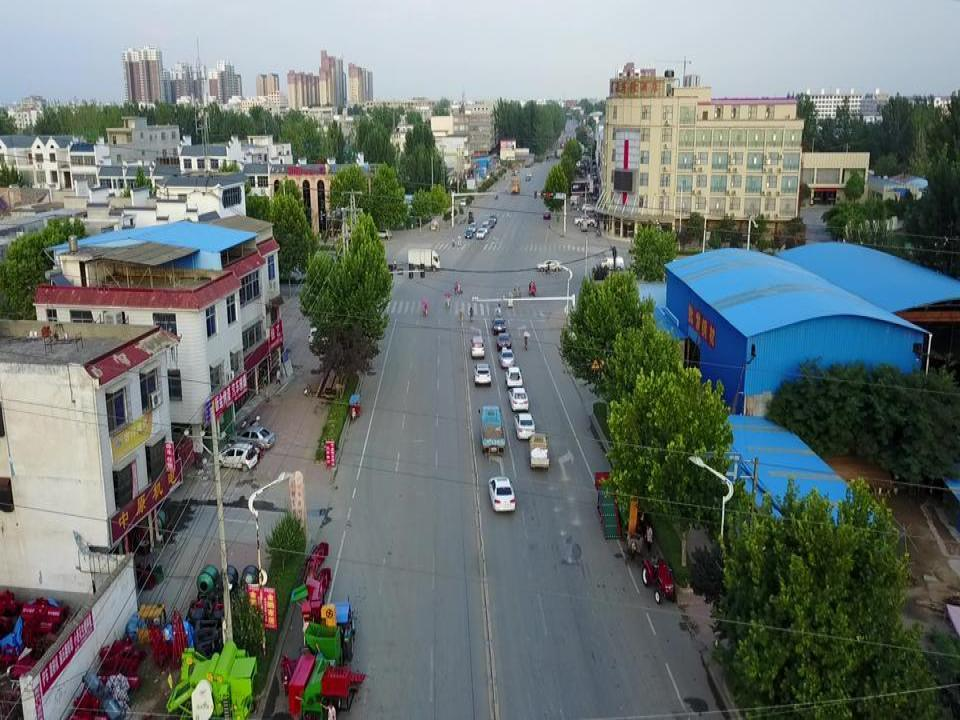car: (225, 425, 273, 450), (212, 445, 258, 471), (486, 474, 515, 514), (513, 411, 535, 440), (307, 328, 334, 347), (508, 387, 528, 409), (504, 365, 523, 387), (535, 257, 562, 272), (475, 361, 490, 387), (469, 334, 485, 358), (498, 348, 514, 371), (497, 333, 511, 351), (574, 214, 595, 226), (492, 319, 506, 333), (374, 228, 391, 239), (475, 226, 484, 239), (481, 220, 490, 232), (581, 203, 593, 212), (467, 223, 477, 232), (464, 229, 472, 240), (490, 213, 497, 224), (543, 209, 550, 219), (524, 173, 530, 180), (460, 199, 466, 205), (527, 171, 532, 177)
truck: (479, 404, 506, 453), (529, 432, 550, 471), (406, 246, 440, 270), (509, 178, 521, 194)
van: (600, 255, 624, 269)
